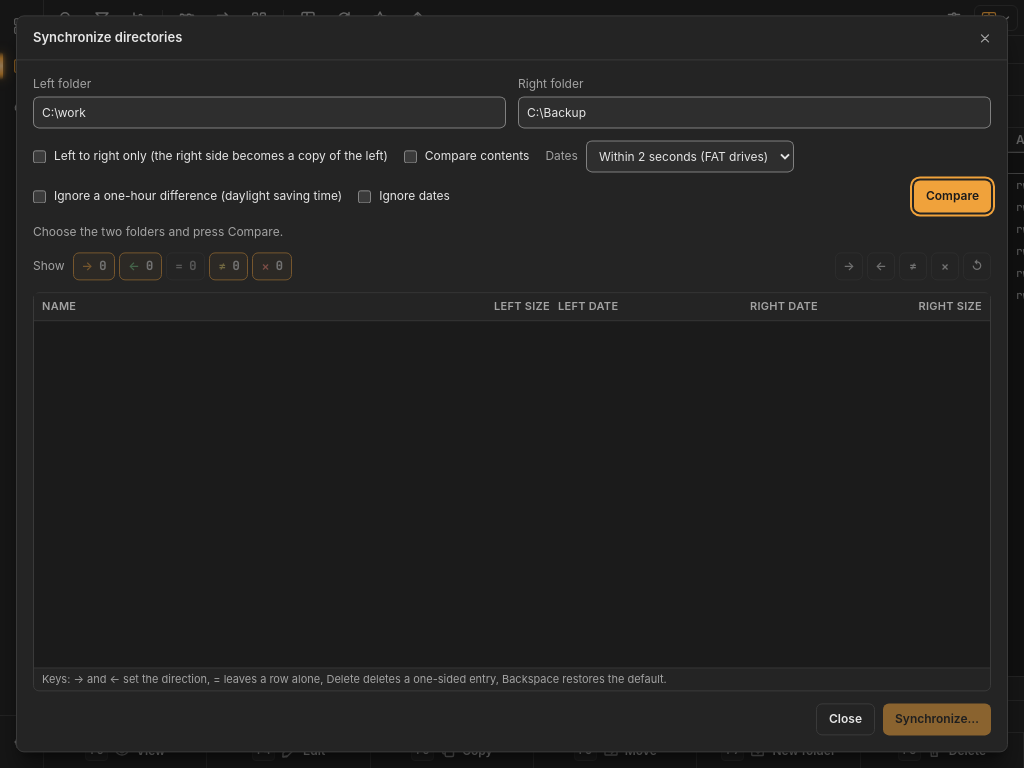
synchronize directories › says why two folders can't be compared, and resolves a typed folder
Expected: the button with test id "path-left" reads "C:\\work", [52,100,387,124]
Expected: the button with test id "path-right" reads "C:\\Backup", [544,100,879,124]
Note: The same folder on both sides.
Replace the text in the field labelled "Right folder" with "C:\\work". click: {"x": 754, "y": 112}
box: [518,96,991,128]
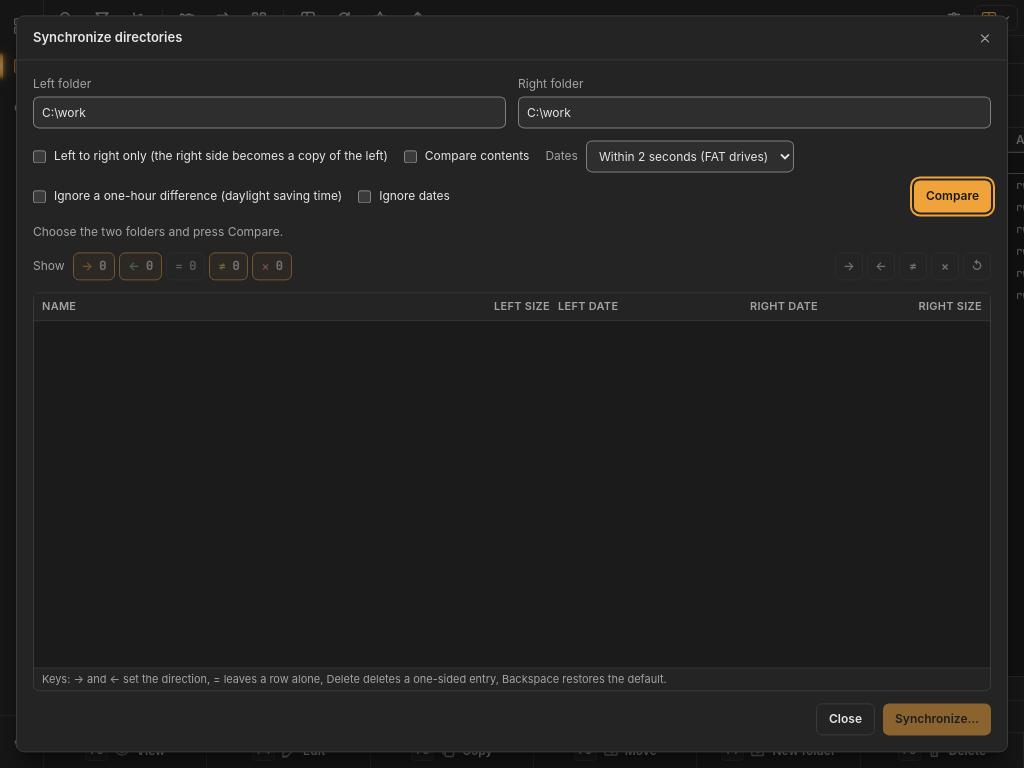
Click the button "Compare". click: {"x": 952, "y": 196}
box: [914,180,991,212]
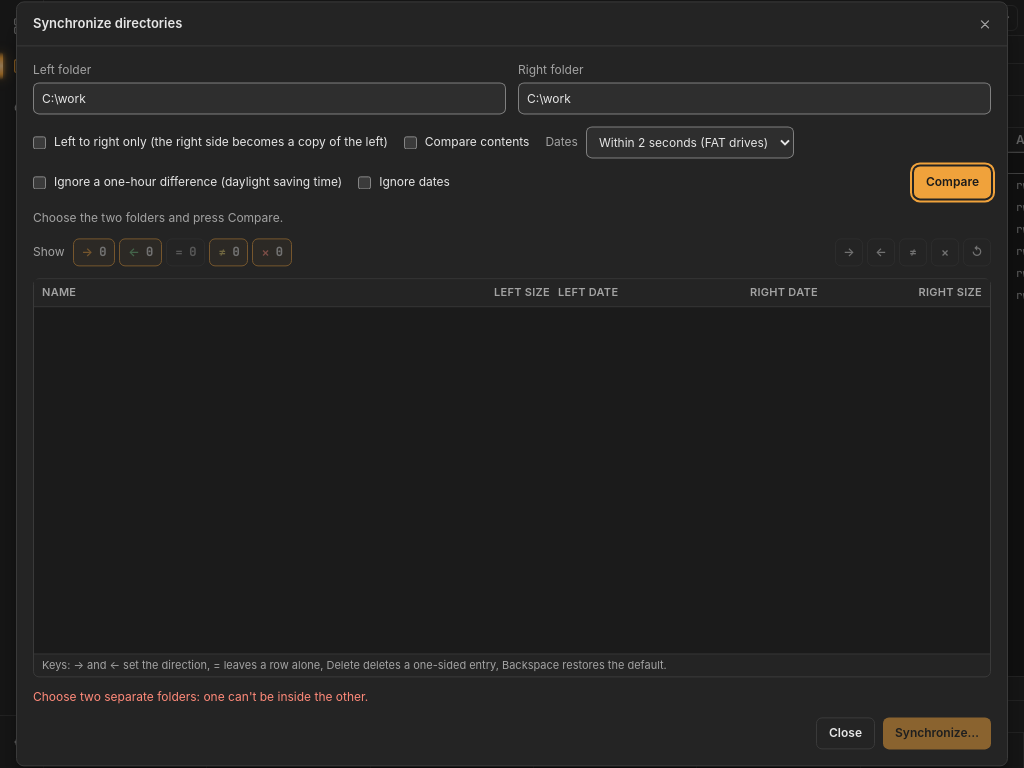
Expected: the message shows "two separate folders", [33,690,368,705]
Replace the text in the field labelled "Right folder" with "C:\\nowhere". click: {"x": 754, "y": 98}
box: [518,82,991,114]
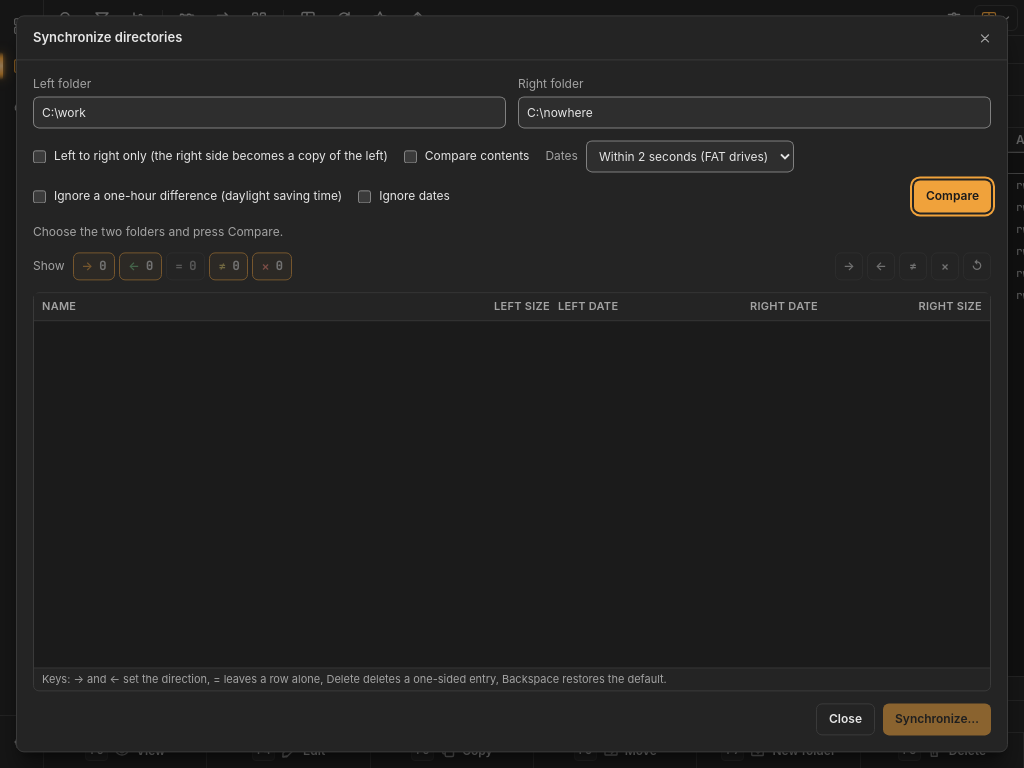
Click the button "Compare". click: {"x": 952, "y": 196}
box: [914,180,991,212]
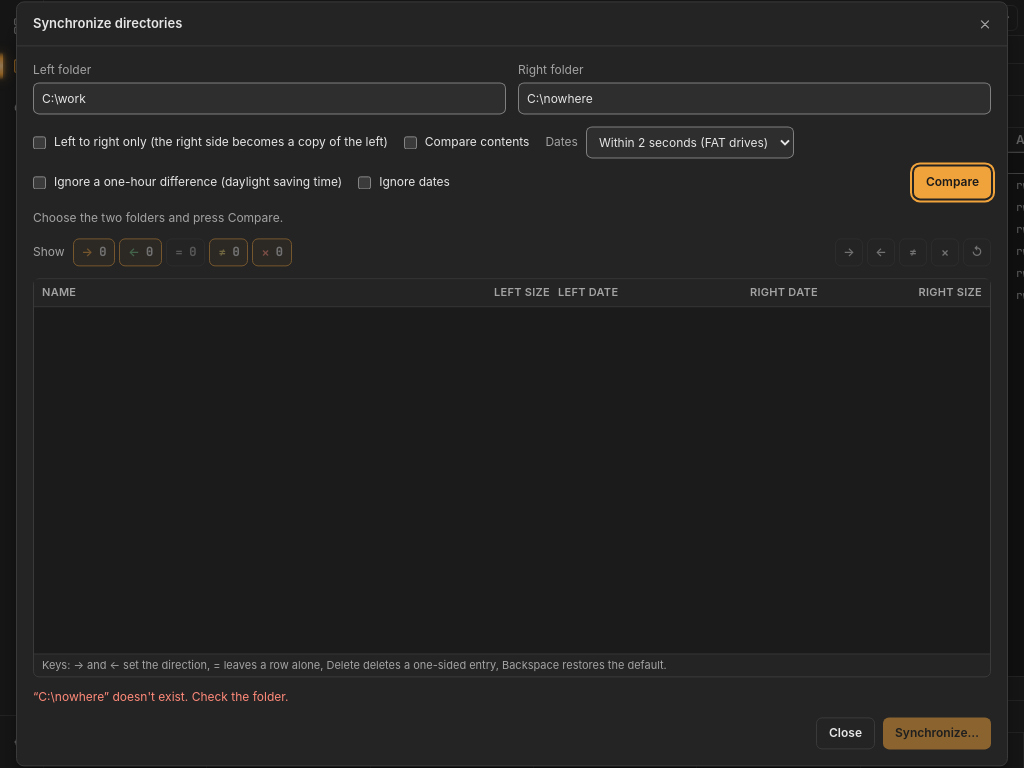
Expected: the message shows "doesn't exist", [33,690,288,705]
